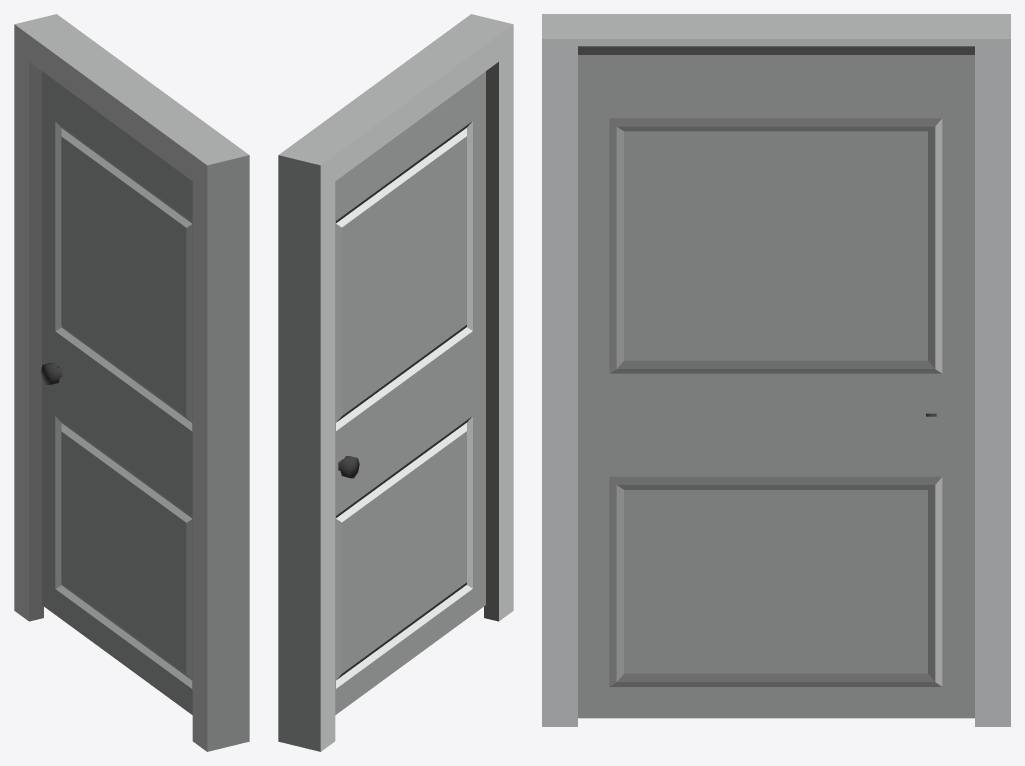
The model's file is M_BRketingmen01.FBX.
3 views of the same model, side by side, from view 1: azimuth 30°, elevation 25°; view 2: azimuth 150°, elevation 25°; view 3: azimuth 270°, elevation 25° (orthographic). The views are drawn at different scales.
Parts seen in each view (by area): view 1: M_BRketingmen01; view 2: M_BRketingmen01; view 3: M_BRketingmen01.
Boxes of the visible parts, x1,y1,x2,y2 form: M_BRketingmen01: (14, 14, 249, 751); M_BRketingmen01: (278, 14, 513, 751); M_BRketingmen01: (542, 14, 1010, 726).
Size of the model in its own units: 0.2329 by 2.94 by 1.75.
